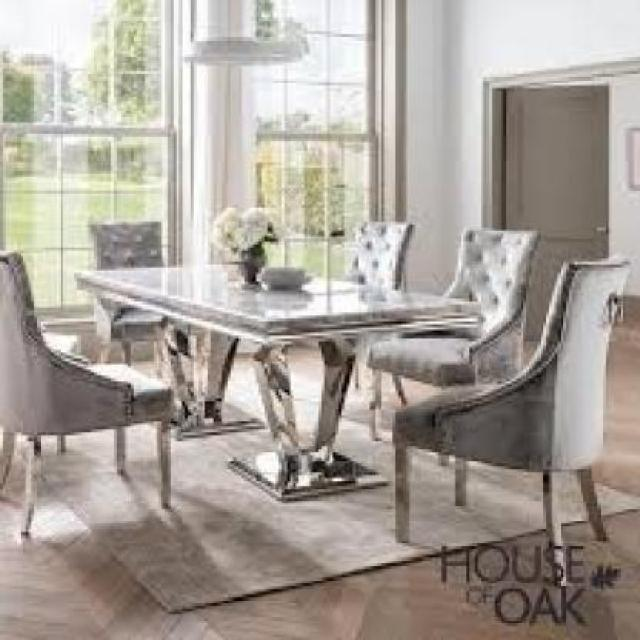tables: (72, 262, 485, 502)
